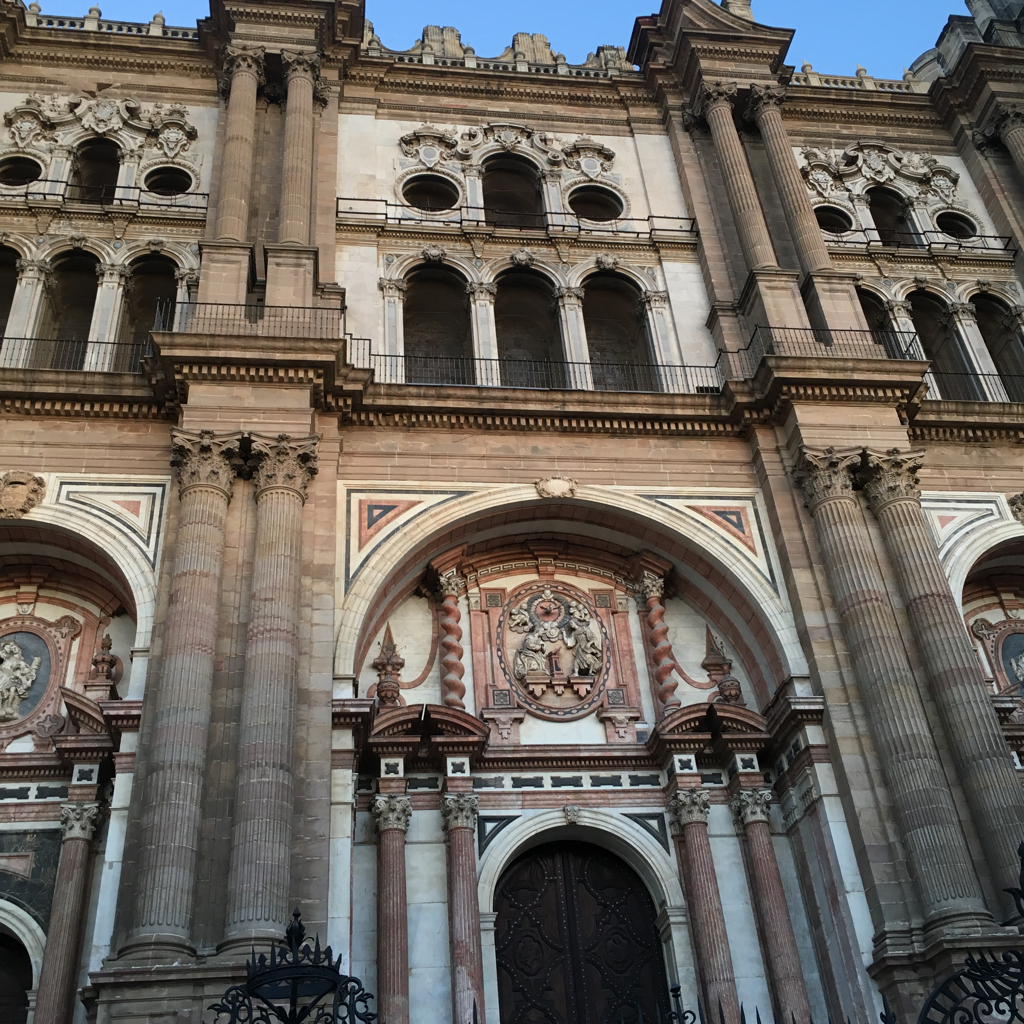arco-medio-punto: (340, 484, 819, 759), (485, 818, 677, 933), (393, 249, 479, 310), (485, 256, 571, 313), (576, 264, 655, 313), (35, 235, 107, 285), (475, 145, 553, 188), (117, 242, 187, 289), (69, 127, 131, 167), (902, 282, 962, 322), (966, 285, 1024, 321), (857, 181, 918, 208)
columna-salomonica: (644, 586, 682, 715), (437, 585, 469, 711)
fronton-partido: (364, 702, 494, 749), (656, 701, 772, 746)
ojo-de-buey: (563, 175, 632, 226), (394, 169, 465, 217), (141, 154, 197, 202), (932, 204, 985, 244), (1, 149, 47, 190), (812, 200, 856, 237)
